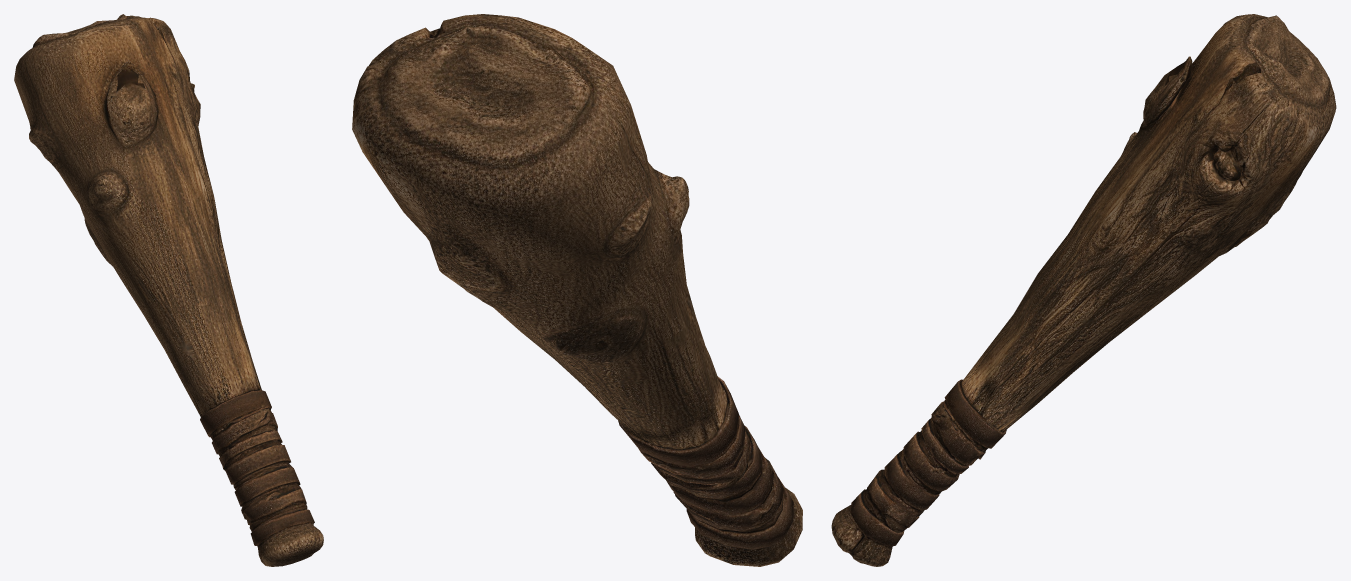
Rendered from tripo_convert_61f8eac2-afe4-4828-99e0-59b09dc1e3b6.fbx.
The picture shows the model from 3 angles, left to right: view 1: azimuth 30°, elevation 25°; view 2: azimuth 150°, elevation 25°; view 3: azimuth 270°, elevation 25°; orthographic projection. The views are drawn at different scales.
Parts seen in each view (by area): view 1: tripo_node_61f8eac2; view 2: tripo_node_61f8eac2; view 3: tripo_node_61f8eac2.
Boxes of the visible parts, box(x1,y1,x2,y2) form: tripo_node_61f8eac2: box(14, 14, 323, 566); tripo_node_61f8eac2: box(352, 14, 802, 566); tripo_node_61f8eac2: box(831, 14, 1336, 566).
Bounding box in the file's own units: 0.3848 × 0.998 × 0.8887.
Materials: 1 (1 with a texture image).
